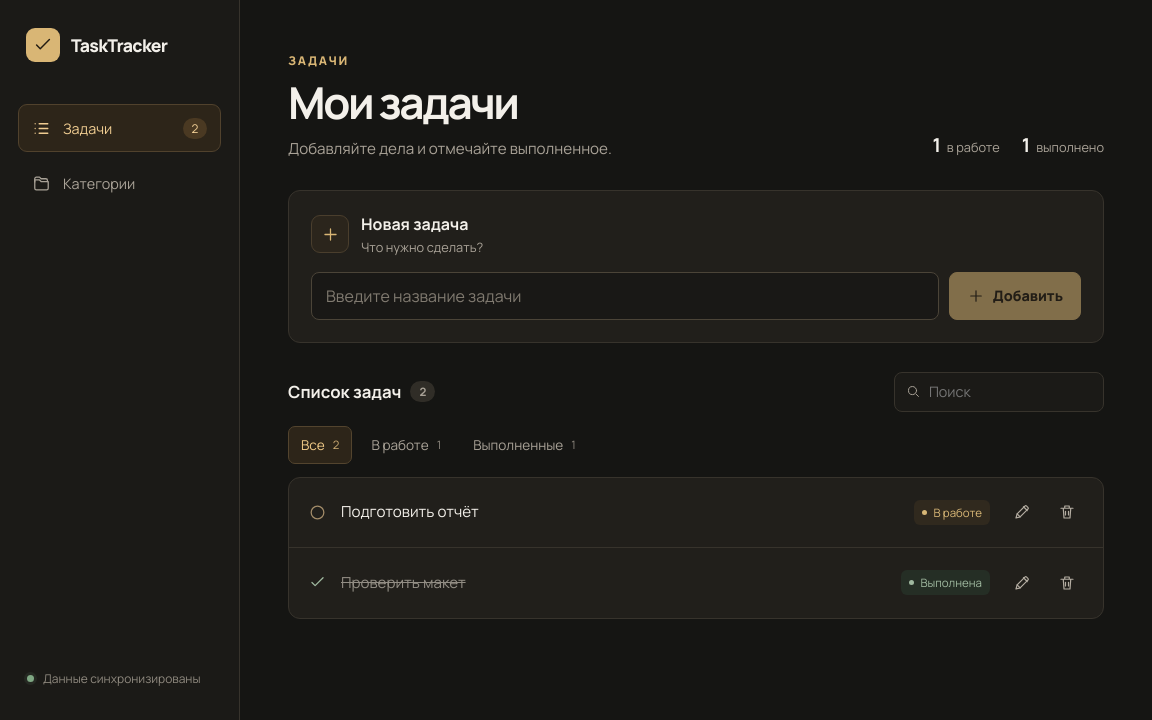
Test: Categories › opens from navigation and loads categories without additional task requests
Expected: the text "Подготовить отчёт" is shown, [341,501,479,522]
Click the button "Категории" at (120,183), box [18,159,221,207]
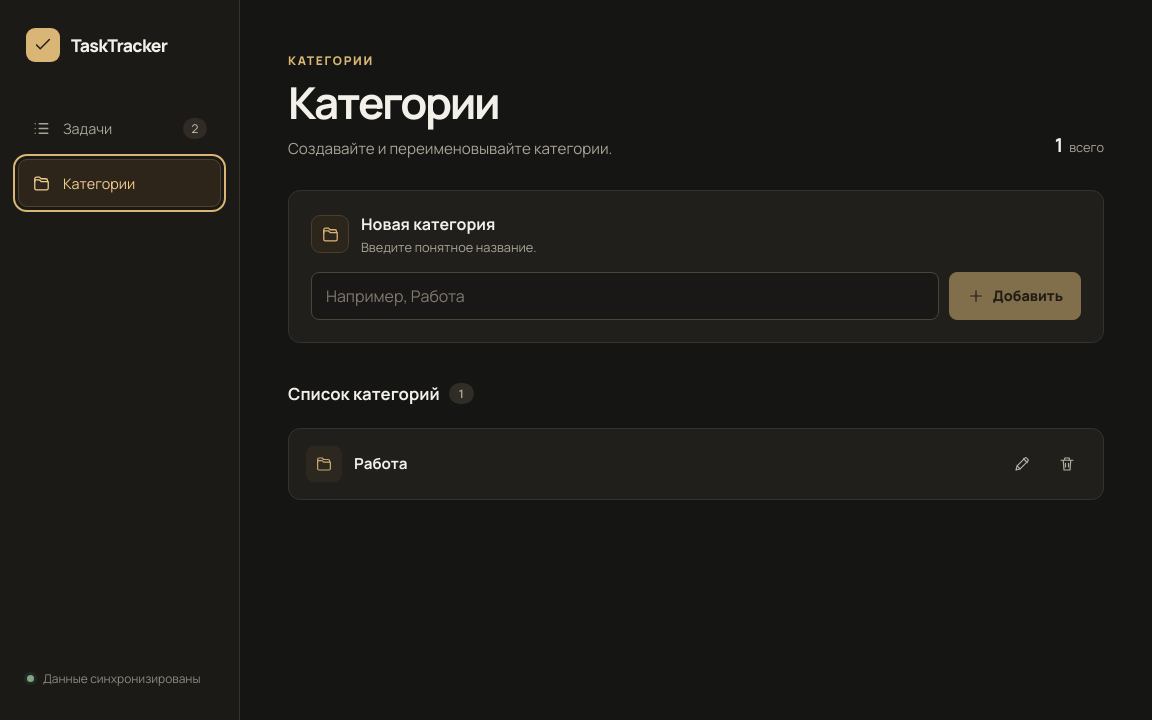
Now the heading "Работа" is shown, box [354,453,407,474]
Now the text "Подготовить отчёт" is gone
